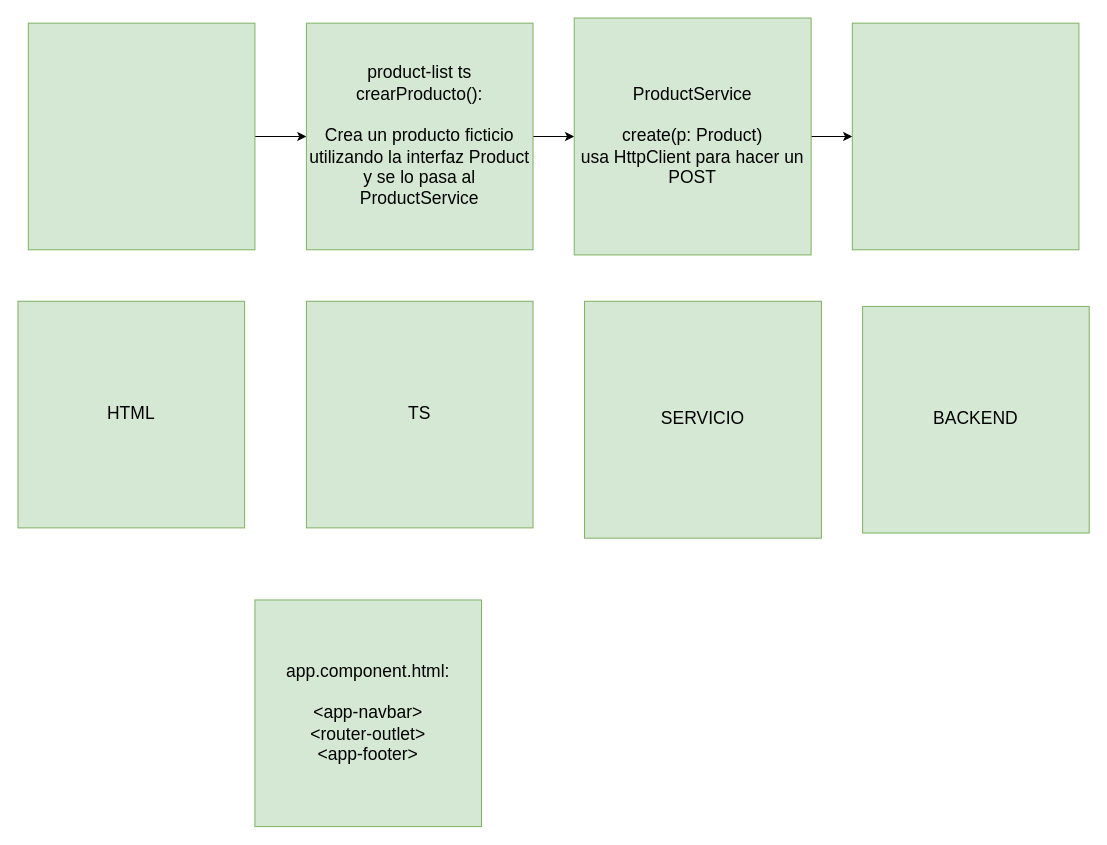
Some shapes in this 1107 by 845 pixel diagram are drawn without their labels. Each missing label, with the box of its shape:
FAKE STORE API REST: (851, 22, 1079, 250)
product-list html <button> crearProducto(): (27, 22, 255, 250)
